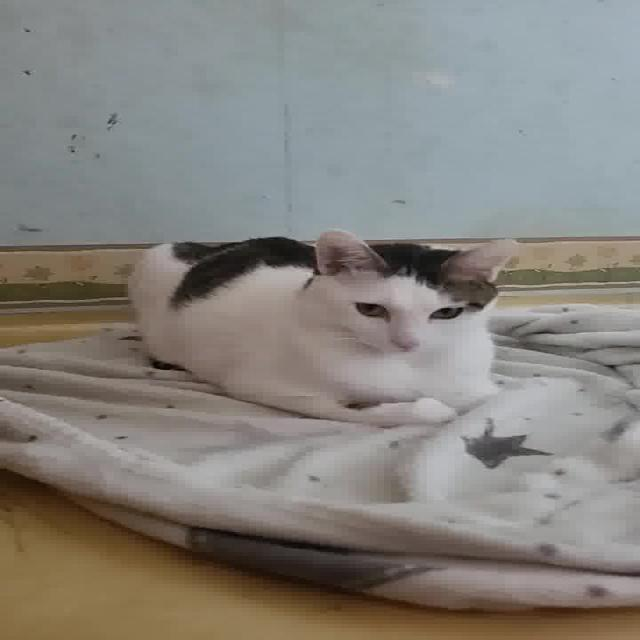cat: (125, 222, 524, 438)
